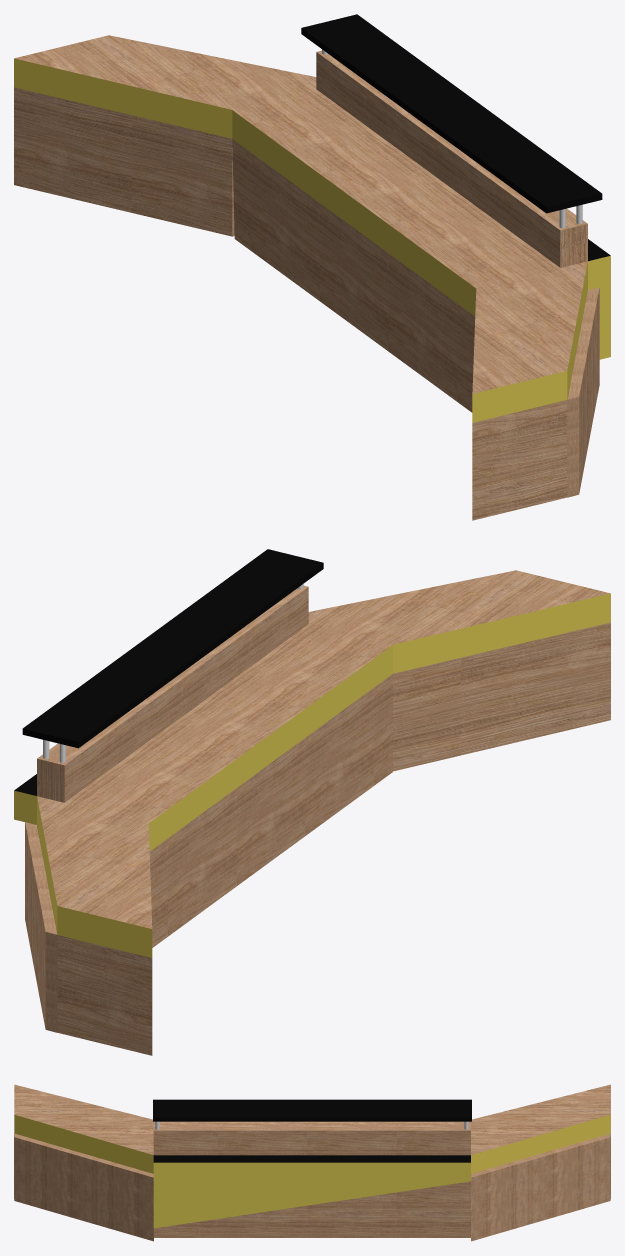
Rendered from meja resepsionis.fbx.
3 views of the same model, one above another, from view 1: azimuth 30°, elevation 25°; view 2: azimuth 150°, elevation 25°; view 3: azimuth 270°, elevation 25° (orthographic). The views are drawn at different scales.
Visible parts, largest first — view 1: polySurface4, polySurface1, pCube4; view 2: polySurface4, polySurface1, pCube4; view 3: polySurface4, pCube4, polySurface1.
Boxes of the visible parts, bbox=[...] form: polySurface4: bbox=[14, 35, 610, 520]; polySurface1: bbox=[301, 14, 602, 213]; pCube4: bbox=[567, 287, 599, 497]; polySurface4: bbox=[14, 570, 610, 1055]; polySurface1: bbox=[22, 549, 323, 748]; pCube4: bbox=[25, 822, 57, 1032]; polySurface4: bbox=[14, 1084, 610, 1237]; pCube4: bbox=[14, 1133, 610, 1241]; polySurface1: bbox=[153, 1099, 471, 1121].
Size of the model in its own units: 4.39 by 3.28 by 14.21.
6 materials, 1 textured.
